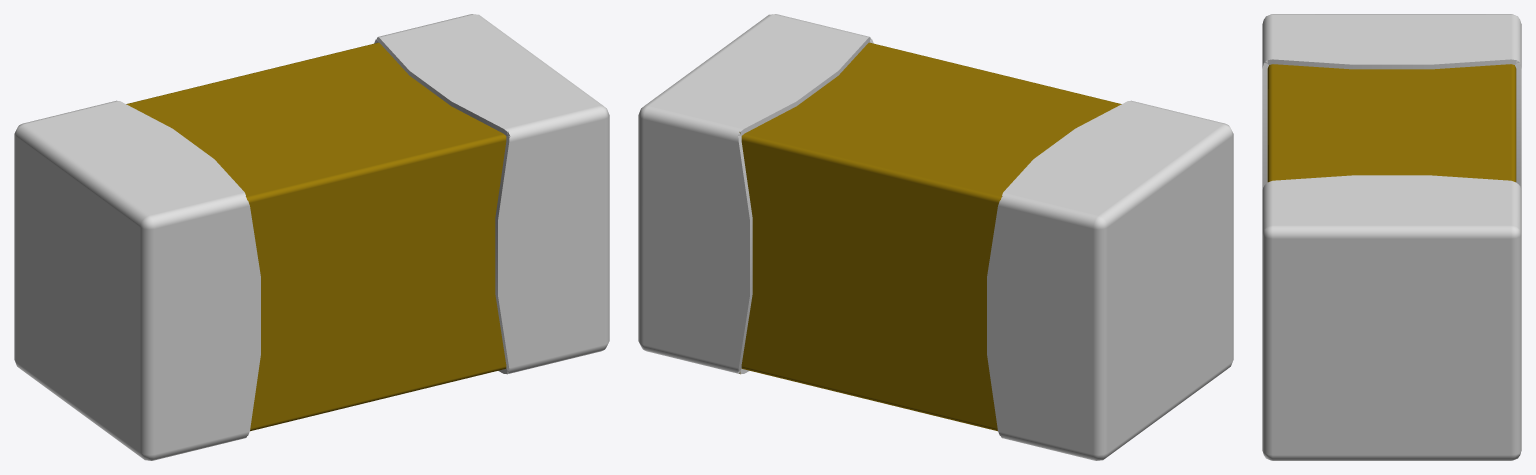
The model's file is Samsung_Electro_Mechanics_CL05B104KO5NNNC.3dmodel.glb.
3 views of the same model, side by side, from view 1: azimuth 30°, elevation 25°; view 2: azimuth 150°, elevation 25°; view 3: azimuth 270°, elevation 25° (orthographic). The views are drawn at different scales.
Parts seen in each view (by area): view 1: =>[0:1:1:1]; view 2: =>[0:1:1:1]; view 3: =>[0:1:1:1].
Part boxes in pixels (box(x1,y1,x2,y2)): =>[0:1:1:1]: box(14, 14, 609, 460); =>[0:1:1:1]: box(638, 14, 1233, 460); =>[0:1:1:1]: box(1262, 14, 1521, 460).
Size of the model in its own units: 1 by 0.5 by 0.5.
